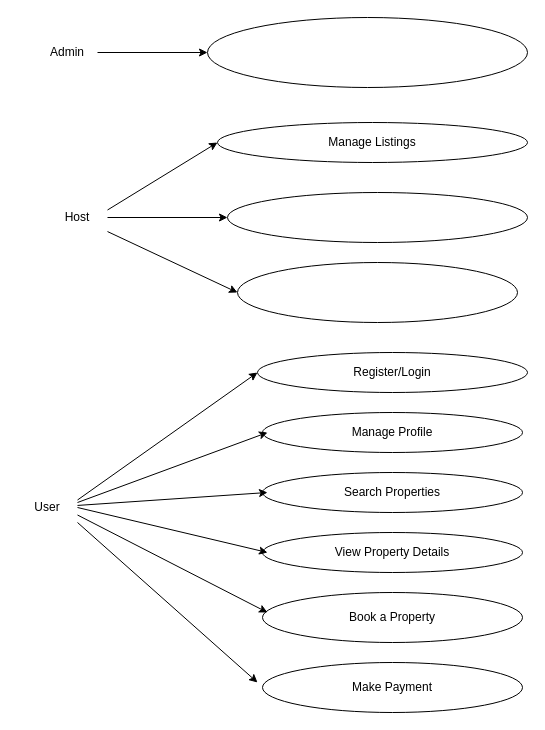
Some shapes in this 545 by 730 pixel diagram are drawn without their labels. Here are the shapes that lost their labels. From the top down, the centre of each, then its label:
At [367,52]: "Admin Panel Management".
At [377,217]: "Manage Bookings".
At [377,292]: "View Transactions".
